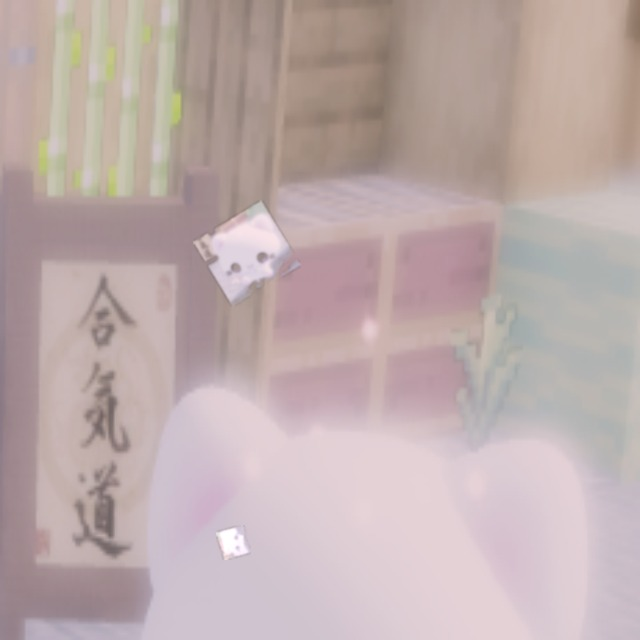urso_branco: (193, 200, 301, 307), (216, 525, 251, 560)
